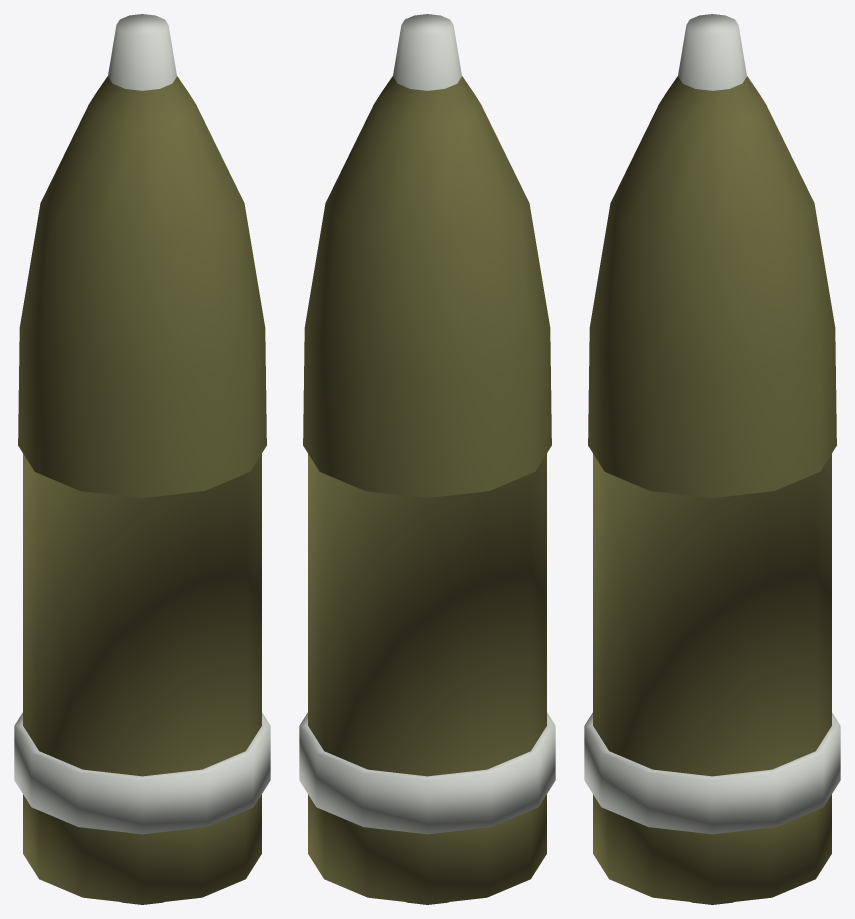
The model's file is hollow.glb.
3 renders of one model, left to right at view 1: azimuth 30°, elevation 25°; view 2: azimuth 150°, elevation 25°; view 3: azimuth 270°, elevation 25°, orthographic.
Visible parts, largest first — view 1: shell; view 2: shell; view 3: shell.
Part boxes in pixels (x1,y1,x2,y2): shell: (14,14,270,904); shell: (299,14,555,904); shell: (584,14,840,904).
Size of the model in its own units: 0.078 by 0.2893 by 0.078.
